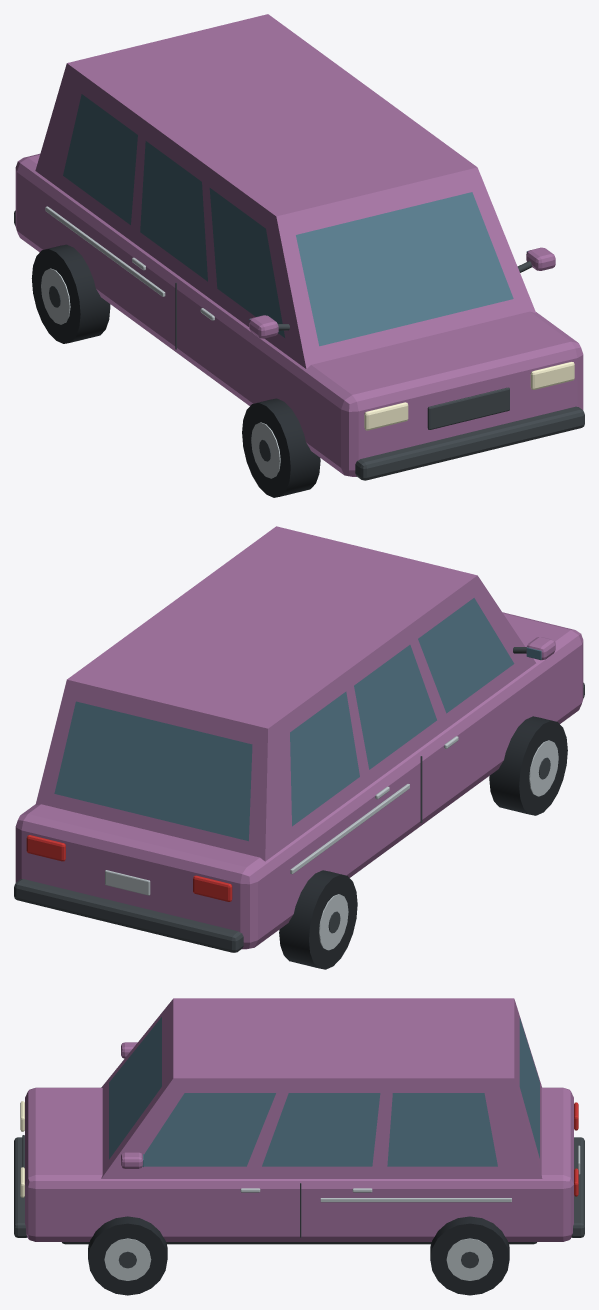
File: car_minivan.glb
3 views of the same model, one above another, from view 1: azimuth 30°, elevation 25°; view 2: azimuth 150°, elevation 25°; view 3: azimuth 270°, elevation 25° (orthographic). The views are drawn at different scales.
Visible parts, largest first — view 1: Minivan cabin shell, Main body, Minivan windshield, Minivan left window 2, Minivan left window 3, Minivan left window 1, Front bumper, Left front wheel tire, Left rear wheel tire, Front grille, Left rear wheel rim, Left front wheel rim (+3 smaller); view 2: Minivan cabin shell, Main body, Minivan rear glass, Minivan left window 3, Minivan left window 2, Minivan left window 1, Rear bumper, Left front wheel tire, Left rear wheel tire, Left front wheel rim, Left rear wheel rim, Sliding door rail (+3 smaller); view 3: Minivan cabin shell, Main body, Minivan right window 2, Minivan right window 3, Minivan right window 1, Minivan windshield, Right rear wheel tire, Right front wheel tire, Minivan rear glass, Right rear wheel rim, Right front wheel rim, Rear bumper (+3 smaller).
Boxes of the visible parts, x1=… form: Minivan cabin shell: x1=35, y1=14, x2=535, y2=368; Main body: x1=15, y1=153, x2=583, y2=476; Minivan windshield: x1=296, y1=192, x2=513, y2=346; Minivan left window 2: x1=140, y1=141, x2=207, y2=281; Minivan left window 3: x1=63, y1=94, x2=137, y2=224; Minivan left window 1: x1=209, y1=188, x2=284, y2=337; Front bumper: x1=355, y1=406, x2=584, y2=480; Left front wheel tire: x1=242, y1=398, x2=320, y2=497; Left rear wheel tire: x1=31, y1=244, x2=110, y2=343; Front grille: x1=427, y1=387, x2=509, y2=429; Left rear wheel rim: x1=41, y1=268, x2=70, y2=324; Left front wheel rim: x1=251, y1=422, x2=280, y2=478; Minivan cabin shell: x1=35, y1=526, x2=535, y2=861; Main body: x1=15, y1=612, x2=583, y2=949; Minivan rear glass: x1=54, y1=701, x2=252, y2=841; Minivan left window 3: x1=290, y1=691, x2=359, y2=826; Minivan left window 2: x1=354, y1=645, x2=436, y2=769; Minivan left window 1: x1=418, y1=598, x2=514, y2=713; Rear bumper: x1=14, y1=879, x2=243, y2=952; Left front wheel tire: x1=489, y1=716, x2=567, y2=815; Left rear wheel tire: x1=279, y1=870, x2=357, y2=969; Left front wheel rim: x1=529, y1=740, x2=558, y2=796; Left rear wheel rim: x1=319, y1=894, x2=348, y2=950; Sliding door rail: x1=290, y1=784, x2=409, y2=874; Minivan cabin shell: x1=101, y1=998, x2=542, y2=1178; Main body: x1=25, y1=1087, x2=573, y2=1241; Minivan right window 2: x1=262, y1=1093, x2=380, y2=1166; Minivan right window 3: x1=387, y1=1093, x2=497, y2=1166; Minivan right window 1: x1=142, y1=1093, x2=275, y2=1166; Minivan windshield: x1=109, y1=1017, x2=161, y2=1159; Right rear wheel tire: x1=430, y1=1216, x2=509, y2=1295; Right front wheel tire: x1=88, y1=1216, x2=167, y2=1295; Minivan rear glass: x1=519, y1=1017, x2=539, y2=1158; Right rear wheel rim: x1=446, y1=1238, x2=493, y2=1280; Right front wheel rim: x1=104, y1=1238, x2=151, y2=1280; Rear bumper: x1=571, y1=1137, x2=584, y2=1237.
Bounding box in the file's own units: 2.39 × 1.91 × 4.89.
